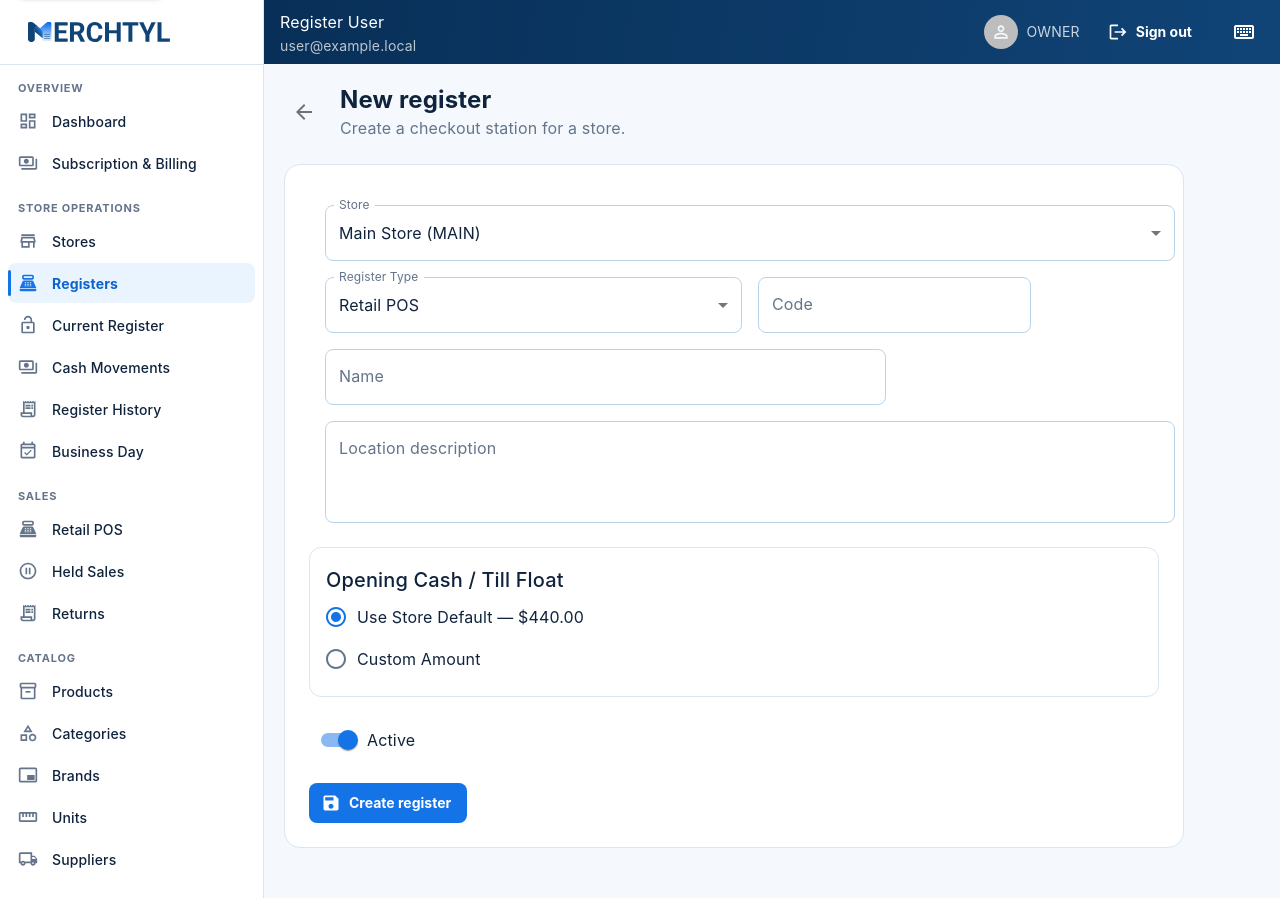
Test case: Register pages › creates a register and opens the edit page
The image size is (1280, 898).
expect the heading "New register" is shown: met, box [340,85,491,114]
expect the radio button labelled "Use Store Default — $440.00" is shown: met, box [324,605,584,629]
Type "lane-2" into the field labelled "Code" at point(894, 305), box [758,277,1031,333]
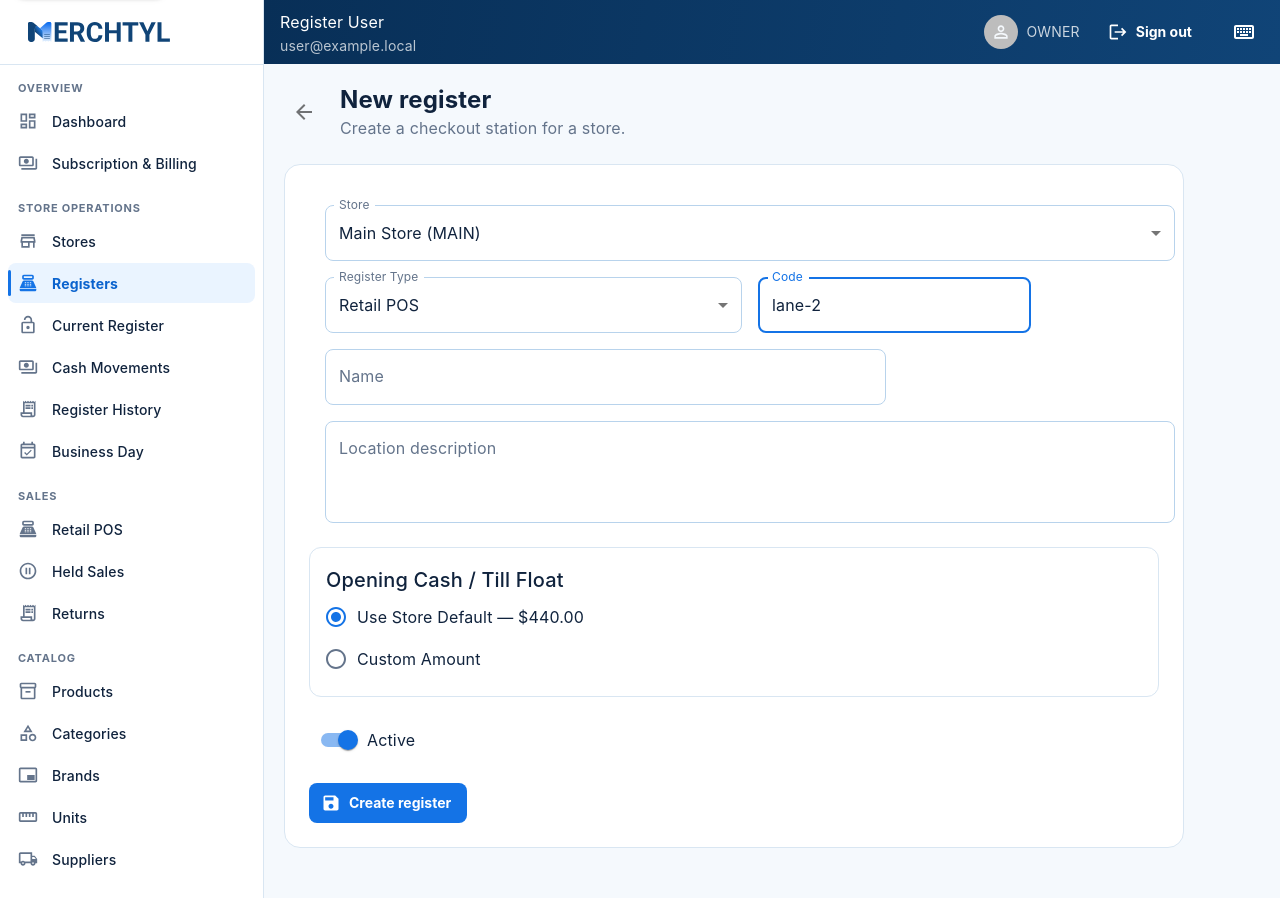
Click the dropdown named "Register Type" at point(379, 304), box [339,294,419,314]
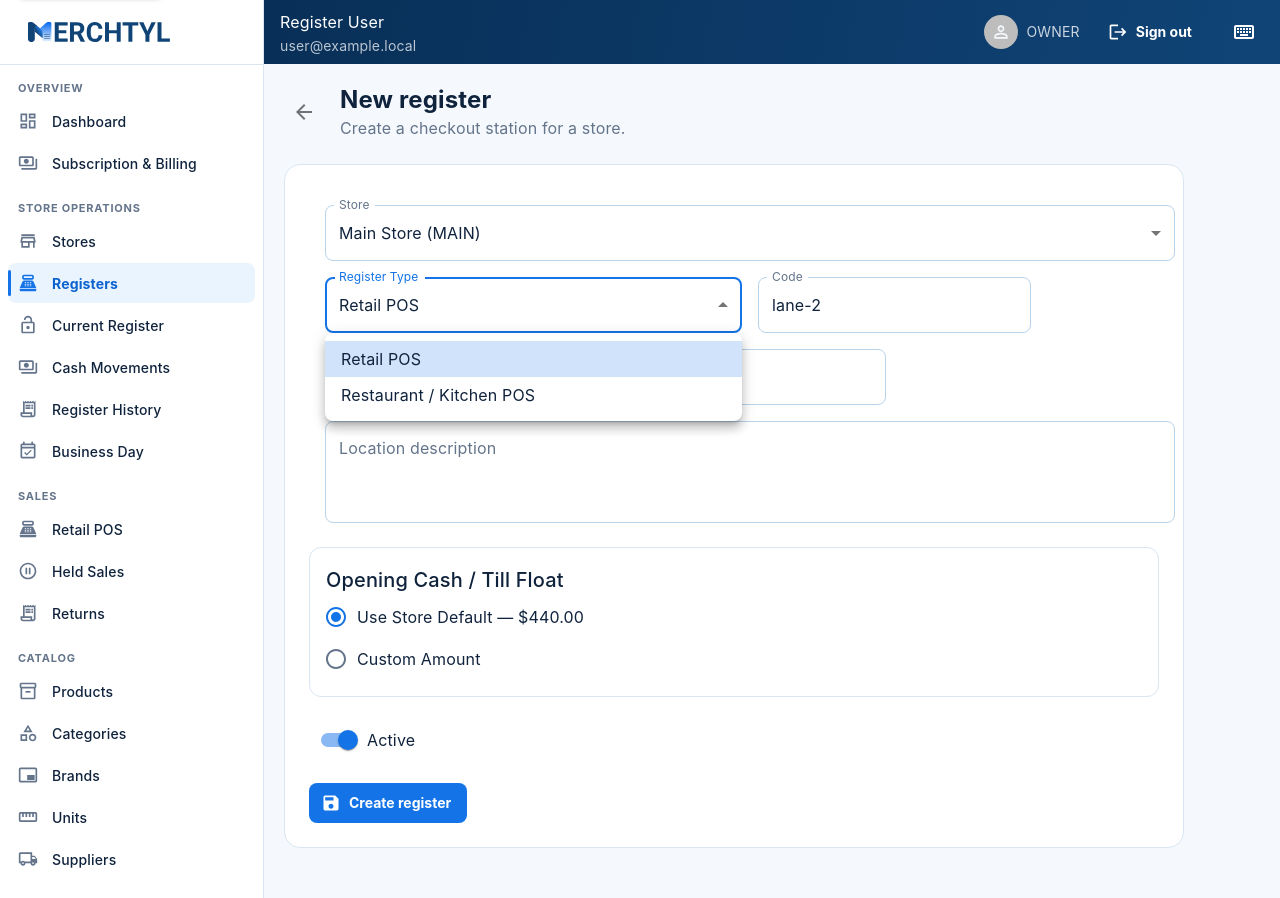
Click the option "Restaurant / Kitchen POS" at point(438, 395), box [341,385,535,405]
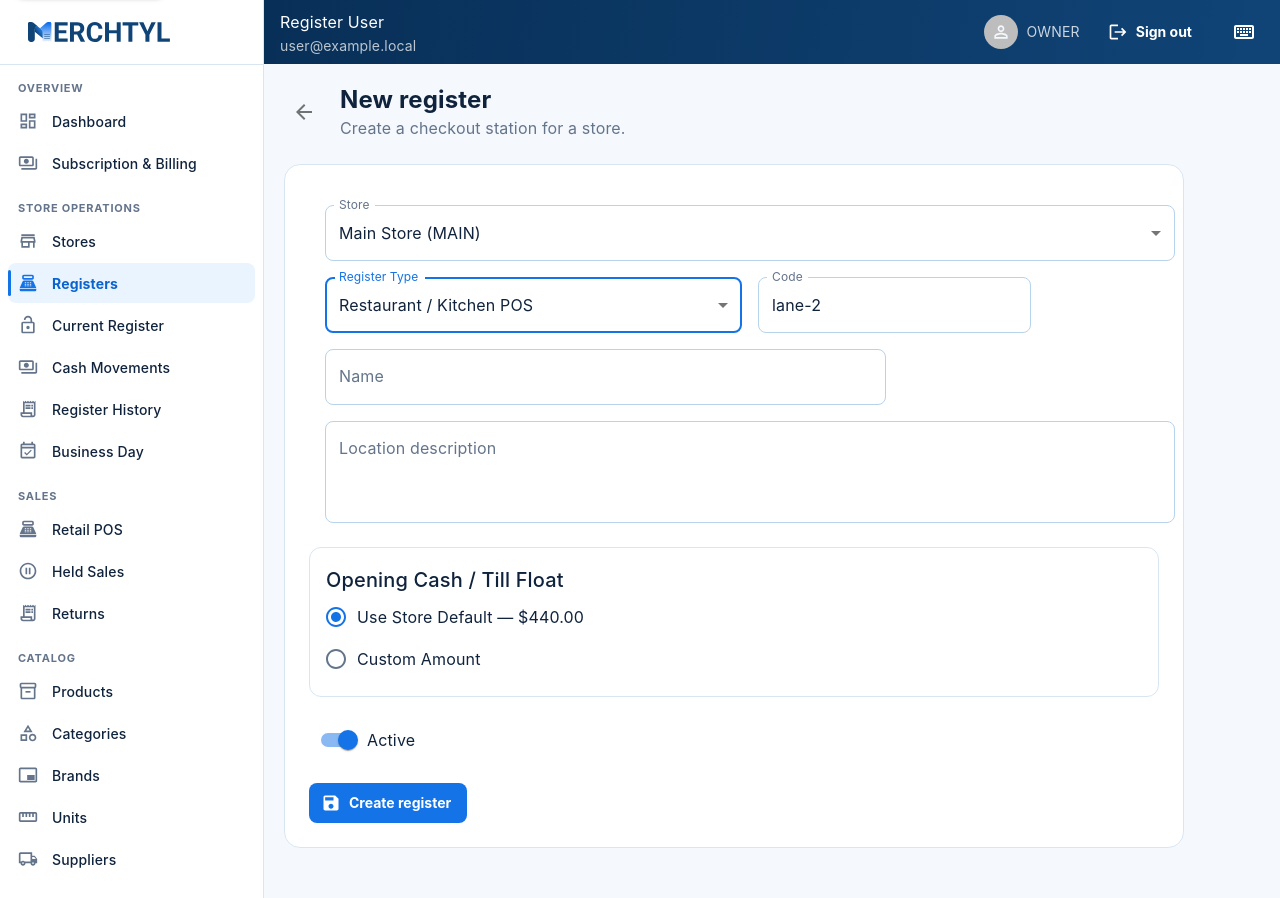
Type "Lane Two" into the field labelled "Name" at point(606, 377), box [325,349,886,405]
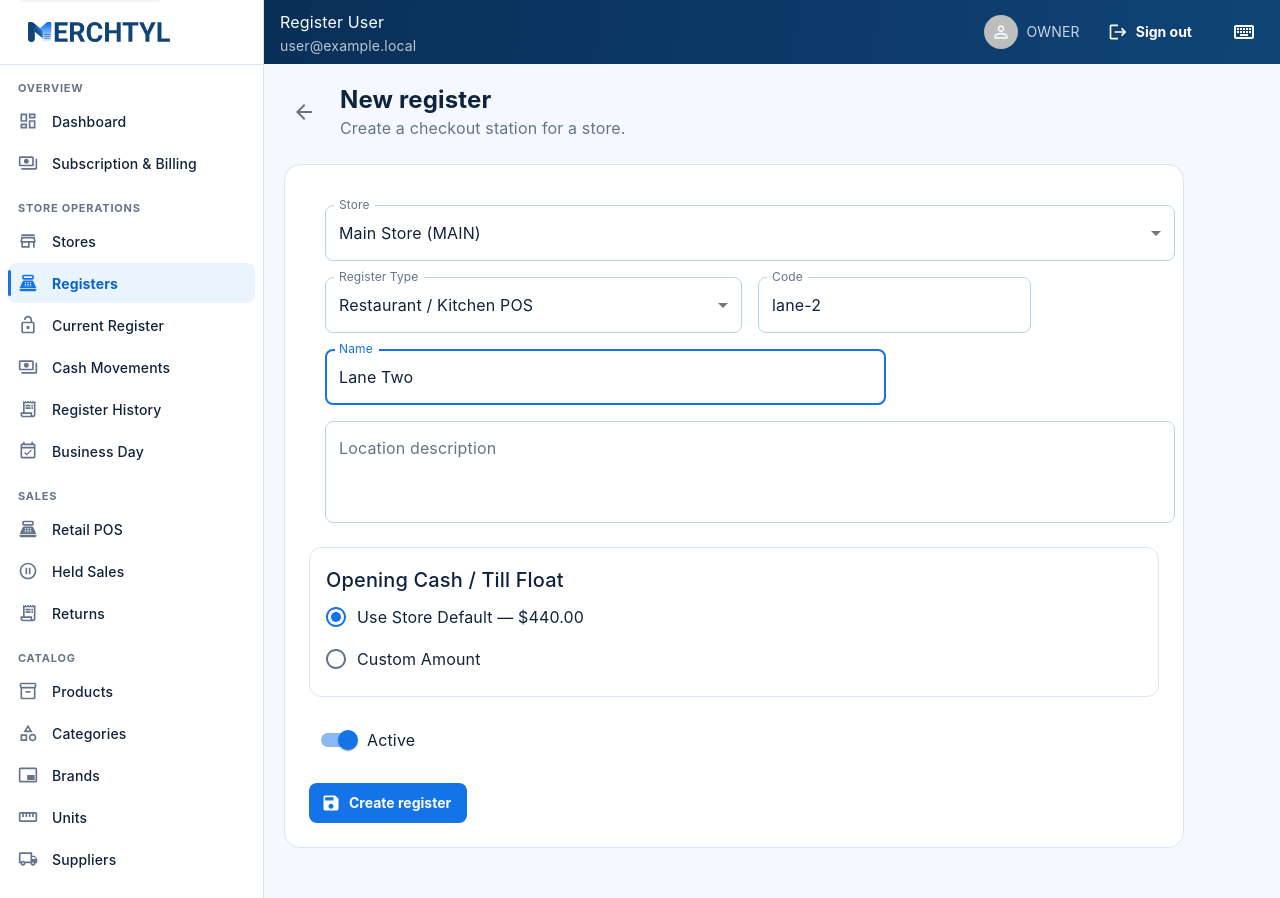
Type "Checkout lane two" into the text box labelled "Location description" at point(750, 472), box [339,438,1161,506]
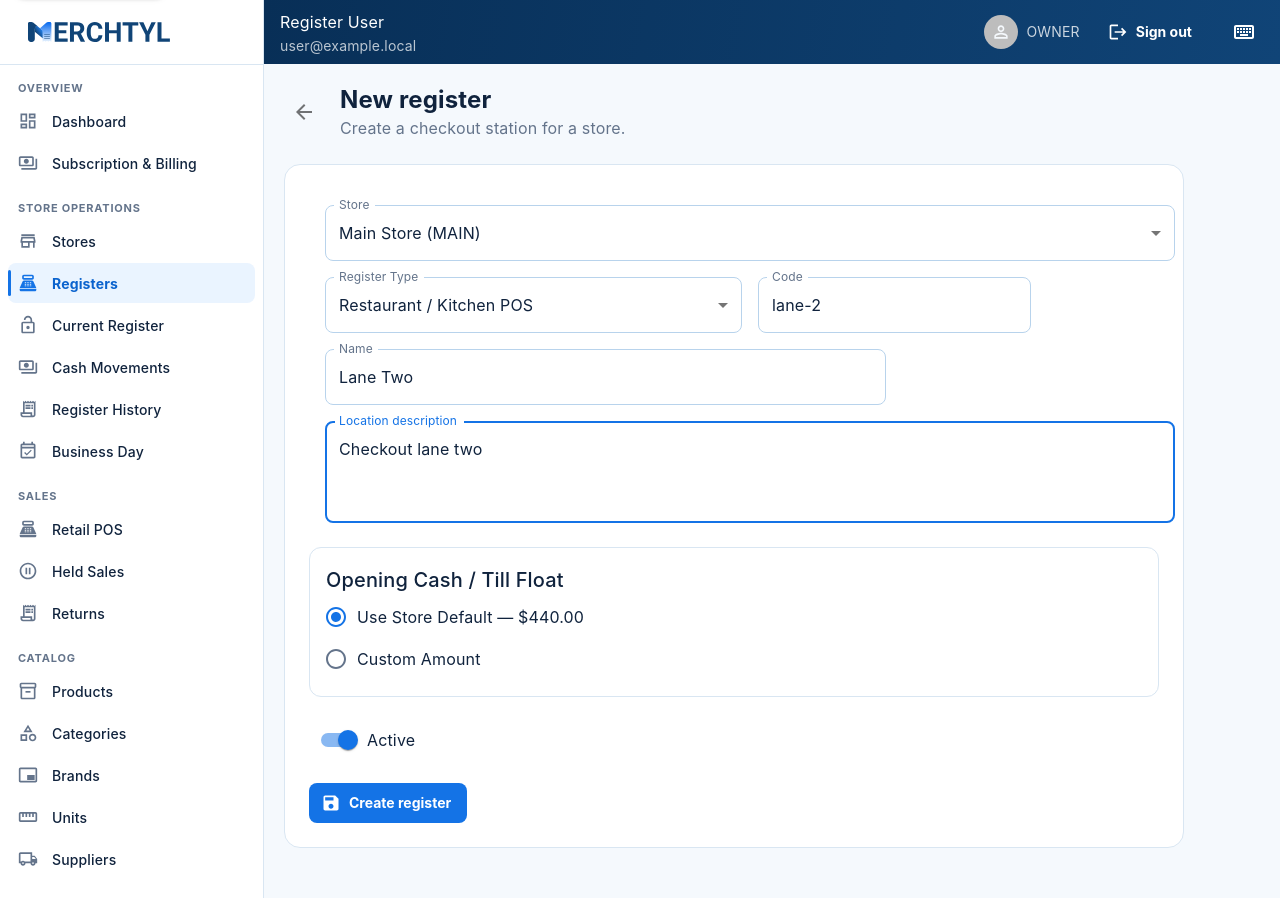
Click the button "Create register" at point(388, 803), box [309,783,467,823]
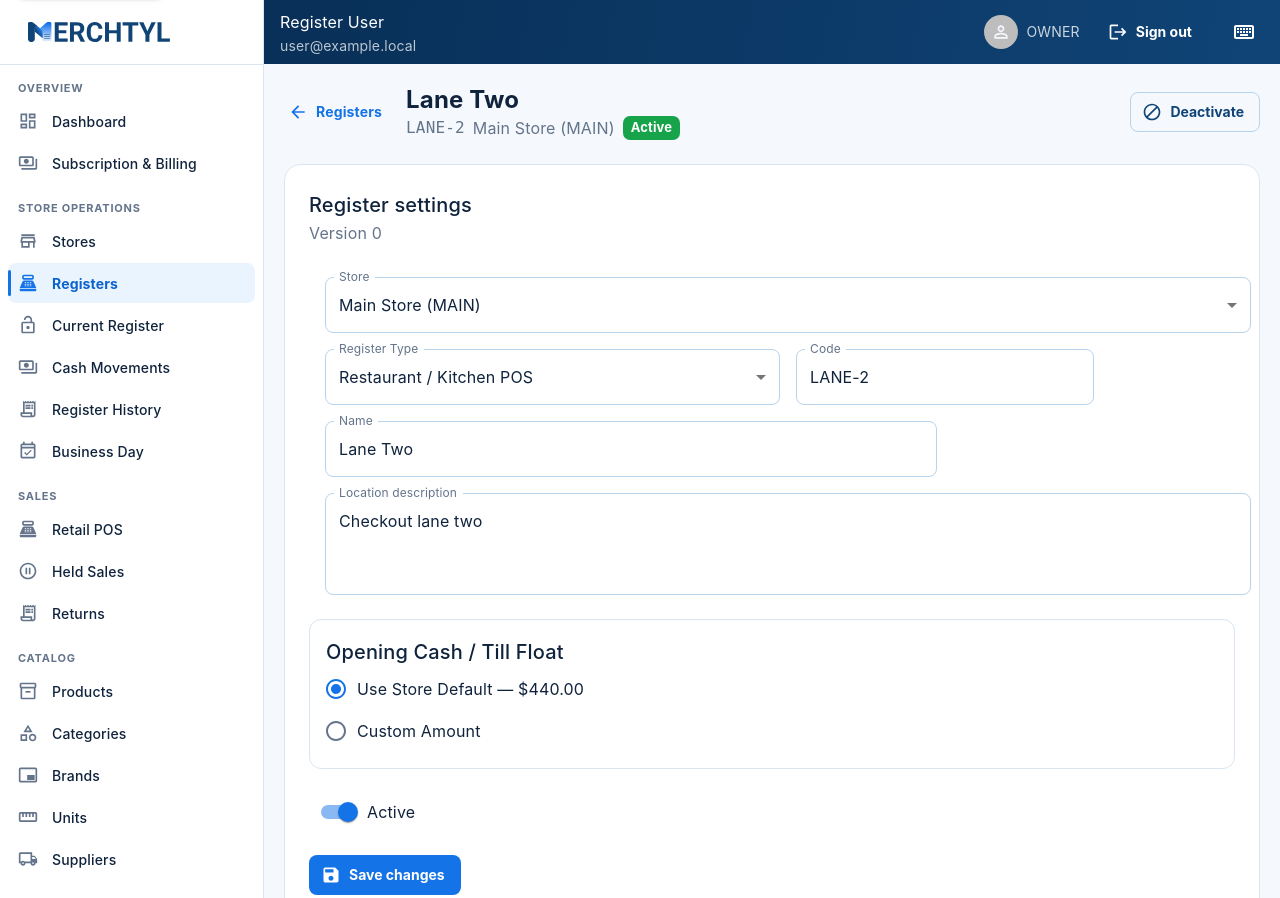
expect the heading "Lane Two" is shown: met, box [406,85,519,114]
